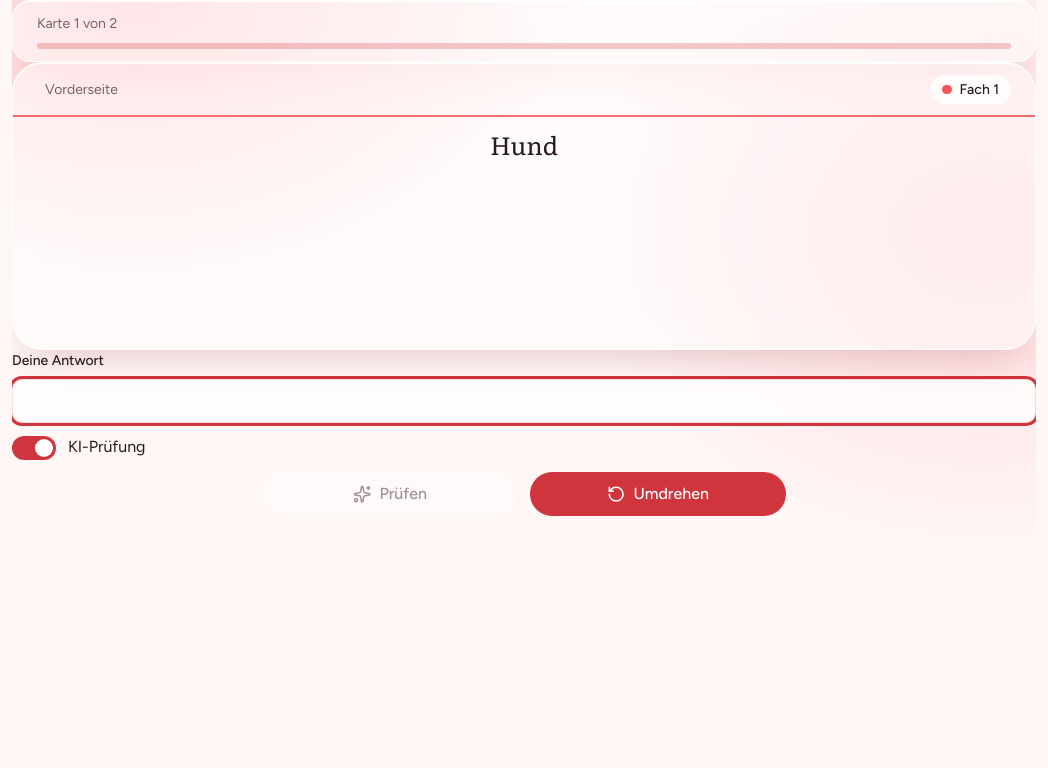
it: LearnSession with AI check › checks only after a click on Prüfen and highlights the suggestion
Expected: the button "Prüfen" is disabled, [262,472,518,516]
Type "dog" into the field labelled "Deine Antwort".
click(524, 401); type("dog")  # box [12,379,1036,423]
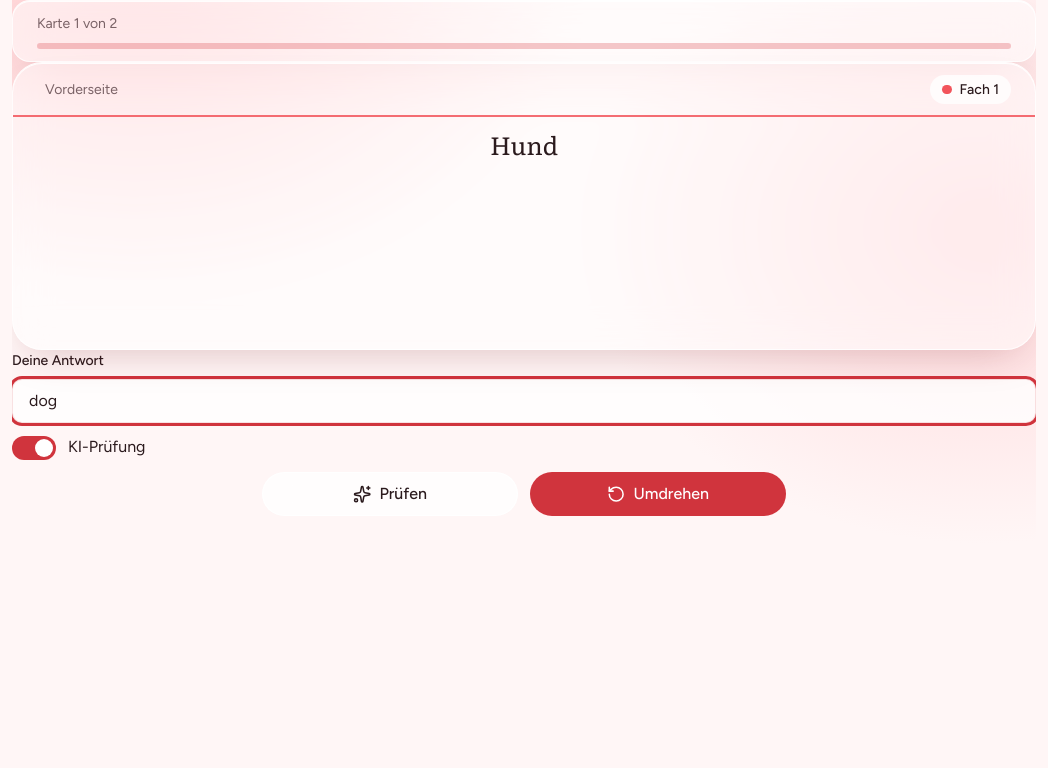
Click the button "Prüfen".
click(390, 494)  # box [262,472,518,516]
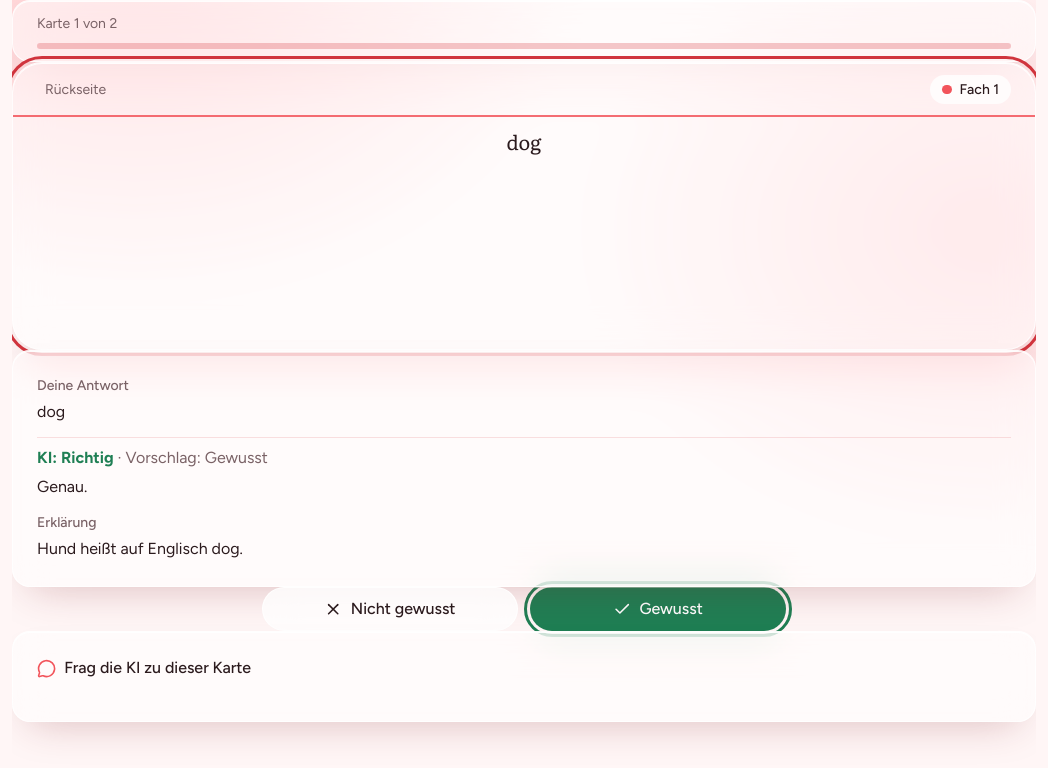
Now the text "KI: Richtig · Vorschlag: Gewusst" is shown, box [37,448,268,467]
Now the text "Genau." is shown, box [37,477,87,496]
Now the text "Hund heißt auf Englisch dog." is shown, box [37,540,243,558]
